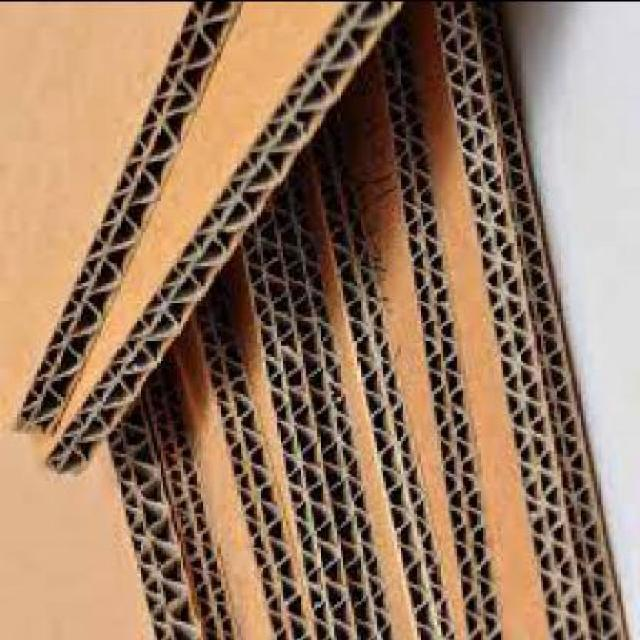box: (31, 3, 400, 479), (406, 3, 625, 639), (328, 20, 506, 638), (0, 3, 243, 435), (303, 97, 459, 638), (268, 148, 392, 639), (217, 213, 351, 639), (0, 377, 197, 638), (165, 290, 311, 639), (143, 366, 243, 639)
